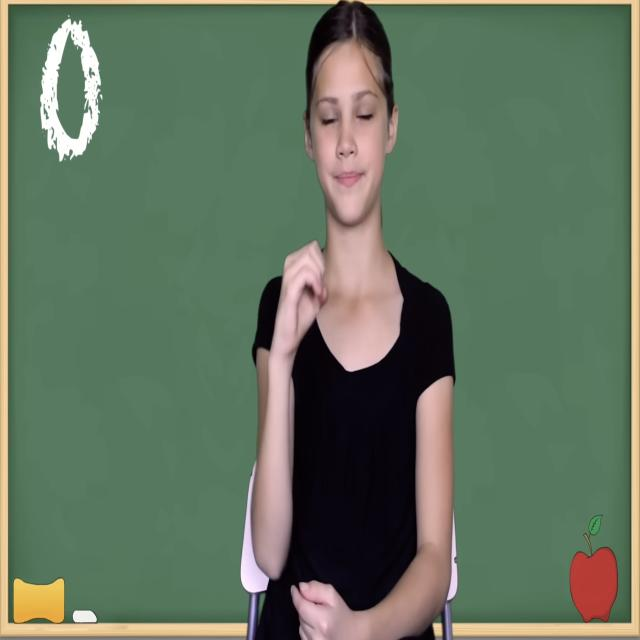O: (261, 227, 337, 378)
